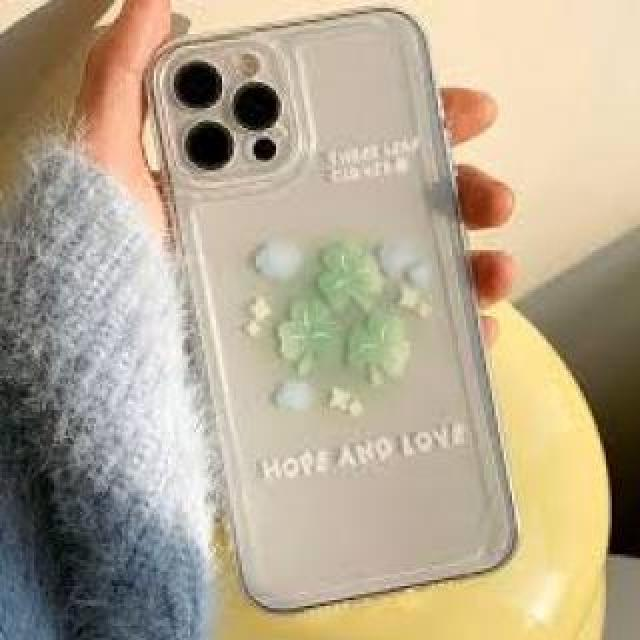smart phone: (150, 3, 523, 610)
